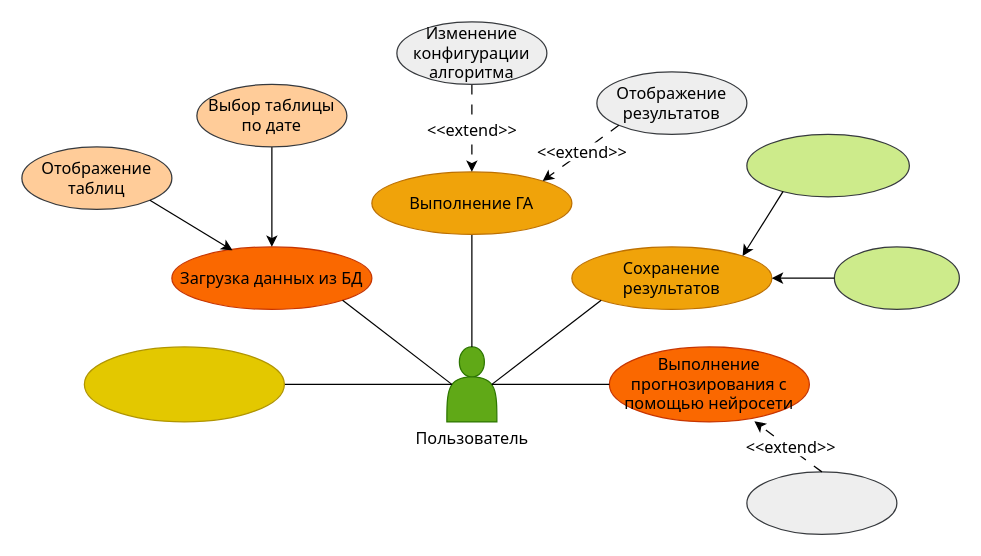
The diagram is 981 pixels wide and 556 high, and some of its shapes have lost their labels. Here are the shapes that lost their labels. From the top down, the centre of each, then its label:
the point at 827,165: Сохранение в текстовом формате
the point at 896,277: Сохранение в формате .csv
the point at 183,384: Авторизация с логином и паролем
the point at 821,502: Визуализация результатов
